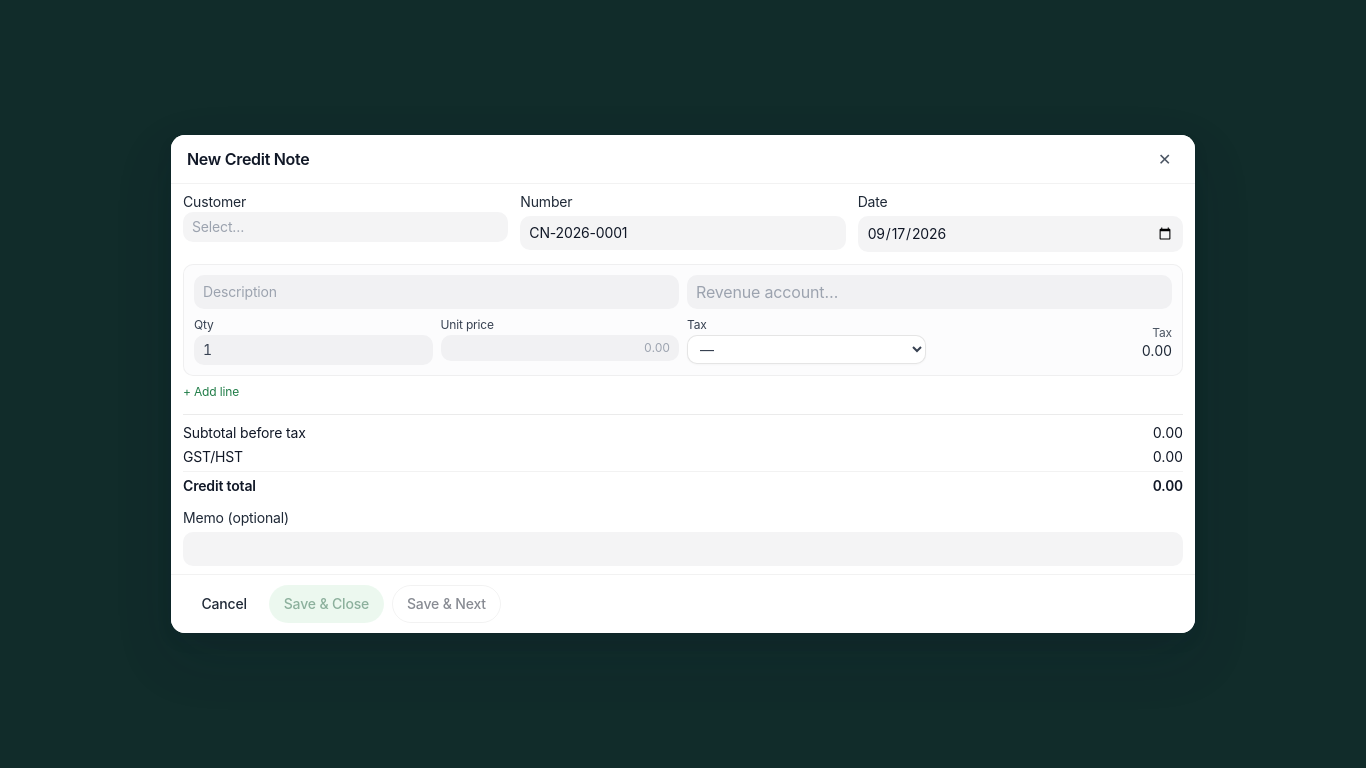
Test: related records stay inside the current entry flow › offers related customer and revenue-account popups from a customer credit note
Click the field with placeholder "Select…". click: (346, 227)
box: [183,212,508,242]
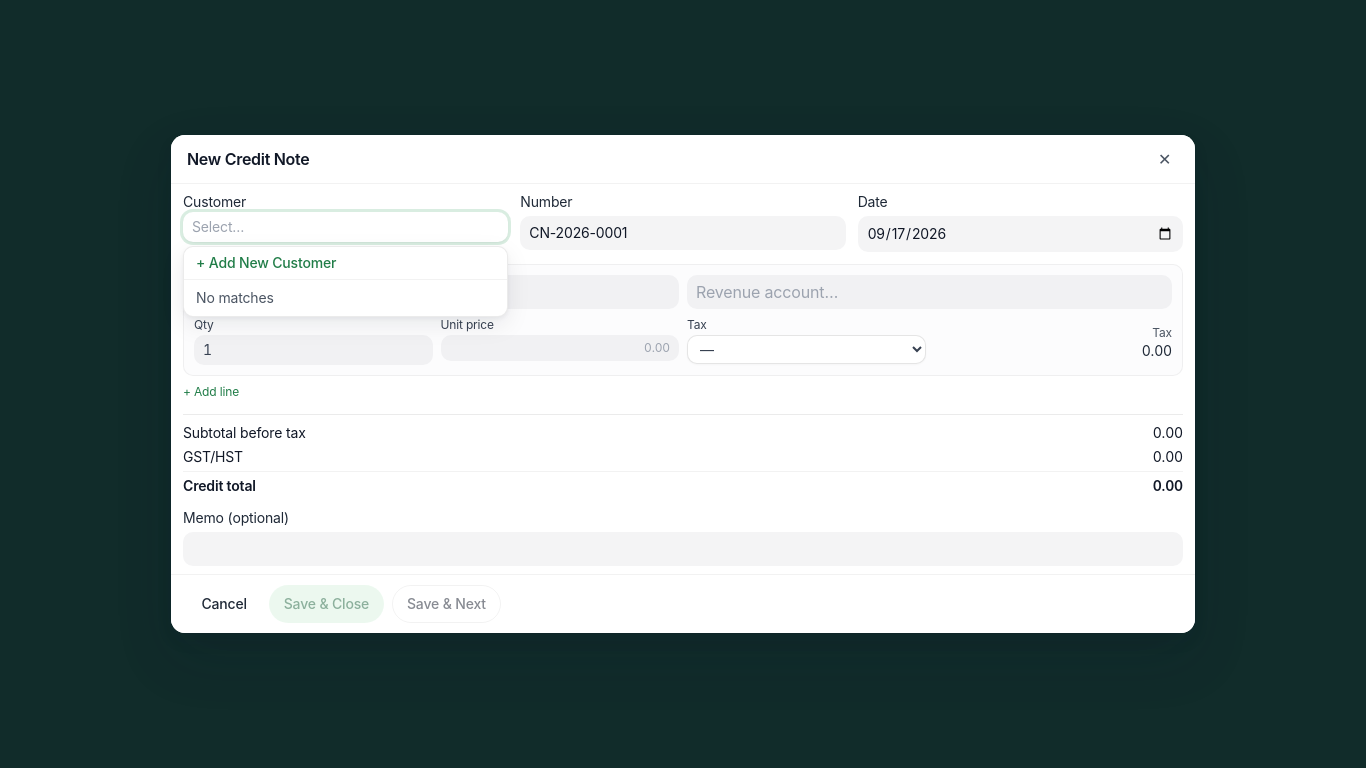
Result: the button "+ Add New Customer" is shown at [184,247,507,280]
Click the field with placeholder "Revenue account…". click: (930, 292)
box: [687,275,1172,309]
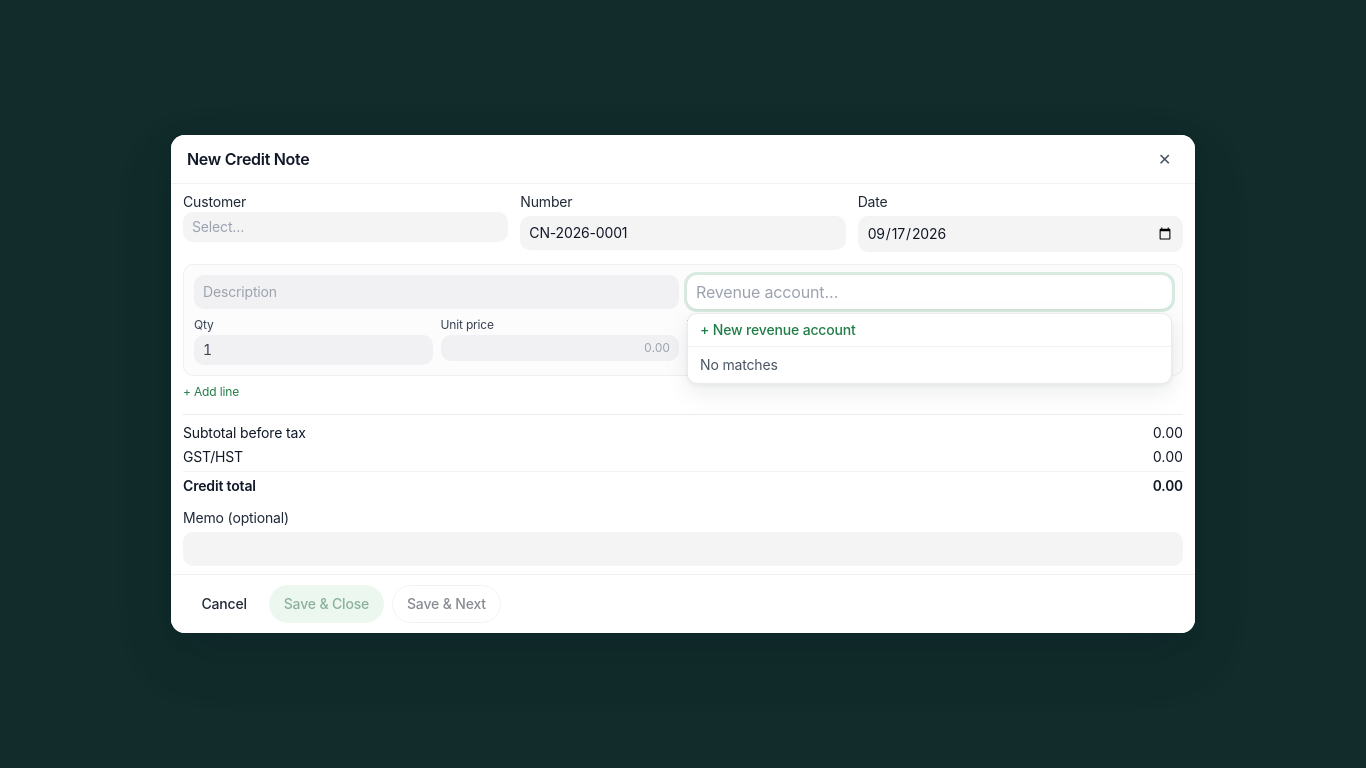
Result: the button "+ New revenue account" is shown at [688,314,1171,347]
